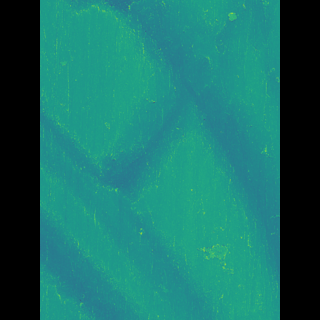Loch: (154, 0, 250, 216), (86, 0, 177, 140), (69, 201, 142, 319)
